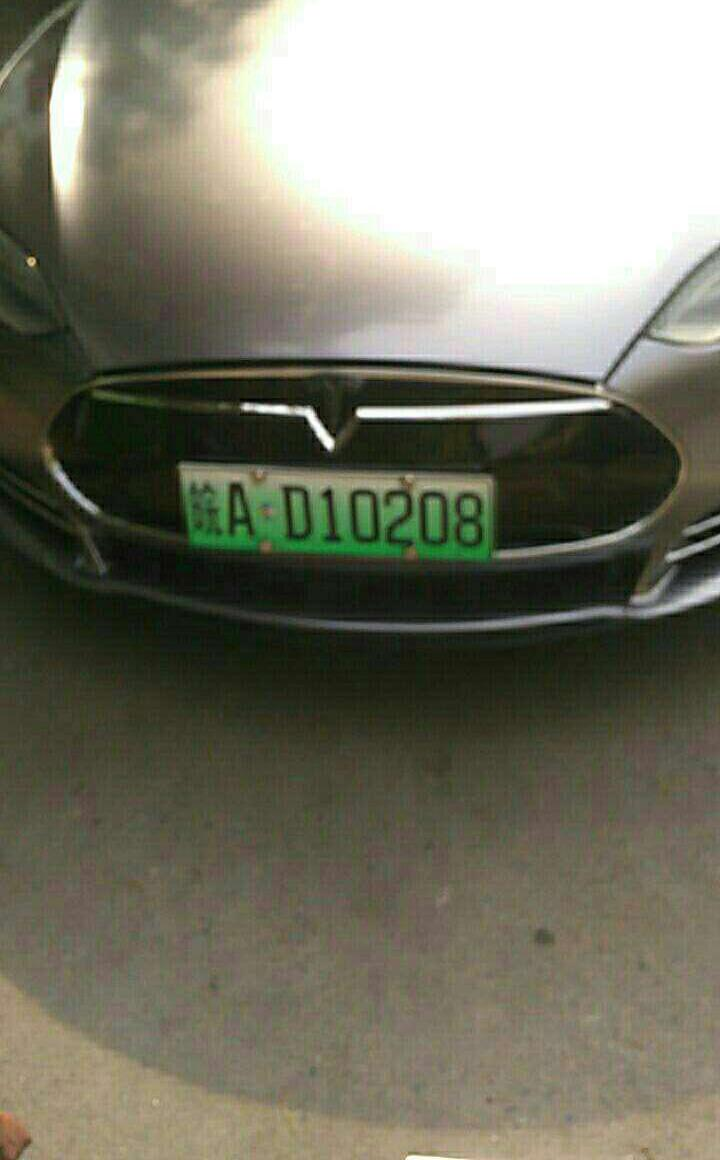car_id: (174, 470, 489, 560)
